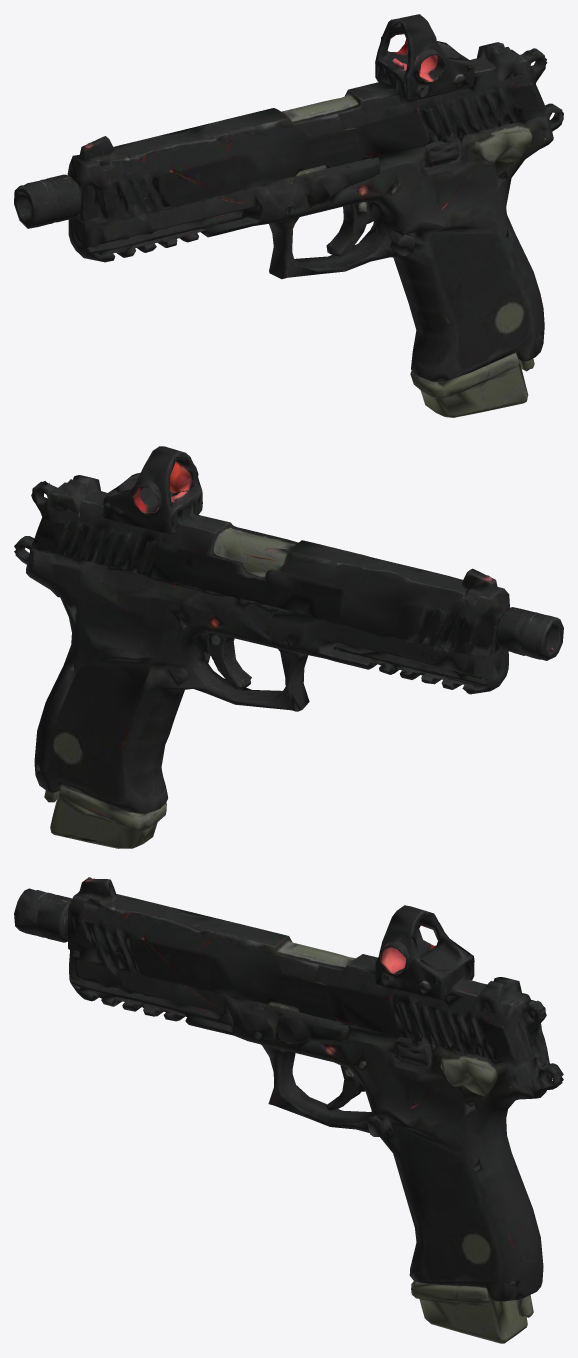
File: gun_mp.glb
3 views of the same model, one above another, from view 1: azimuth 30°, elevation 25°; view 2: azimuth 150°, elevation 25°; view 3: azimuth 330°, elevation 25° (orthographic).
Size of the model in its own units: 1.9 by 1.36 by 0.2399.
1 material, 1 textured.
